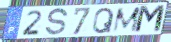2: (21, 9, 43, 37)
7: (72, 6, 92, 36)
M: (133, 4, 167, 35), (111, 6, 142, 34)
Q: (92, 7, 116, 35)
S: (44, 7, 69, 38)
